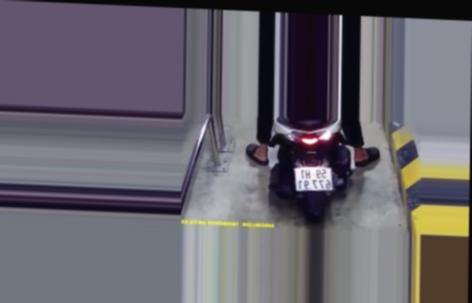License_Plate: (293, 163, 336, 194)
